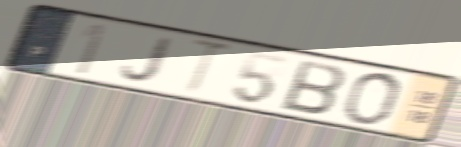1: (74, 21, 111, 78)
5: (231, 48, 293, 106)
B: (279, 57, 348, 117)
J: (119, 34, 179, 84)
O: (340, 70, 405, 126)
T: (180, 36, 239, 99)
